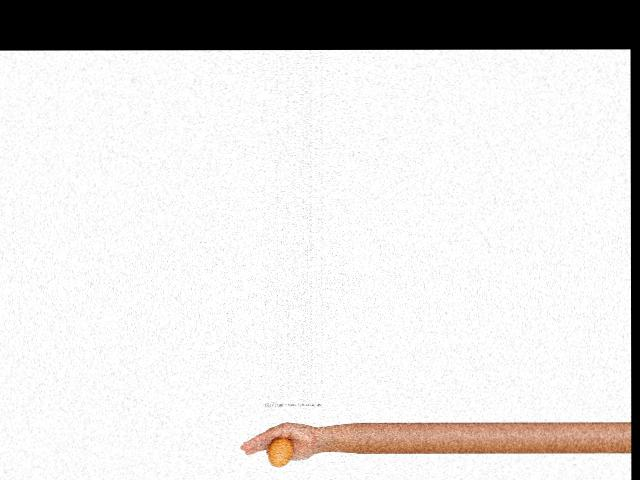egg: (267, 436, 293, 467)
